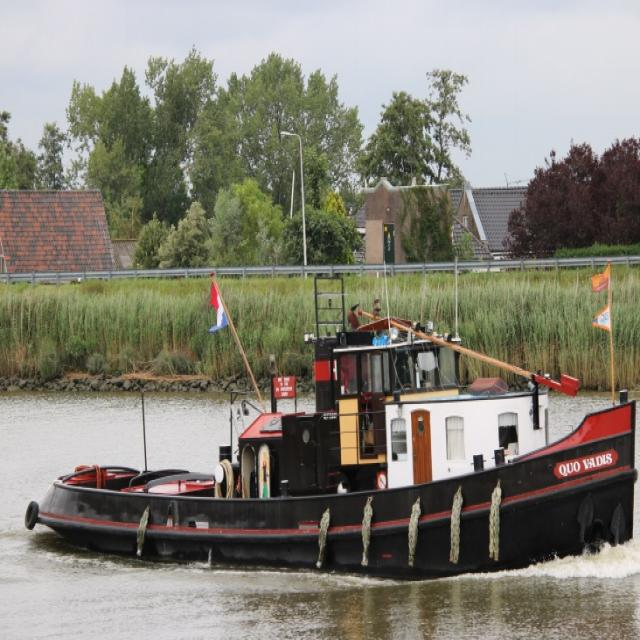tugboat: (27, 264, 640, 593)
